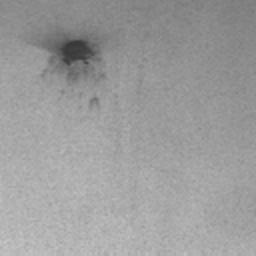Iron sheet ash: (59, 40, 95, 67)
